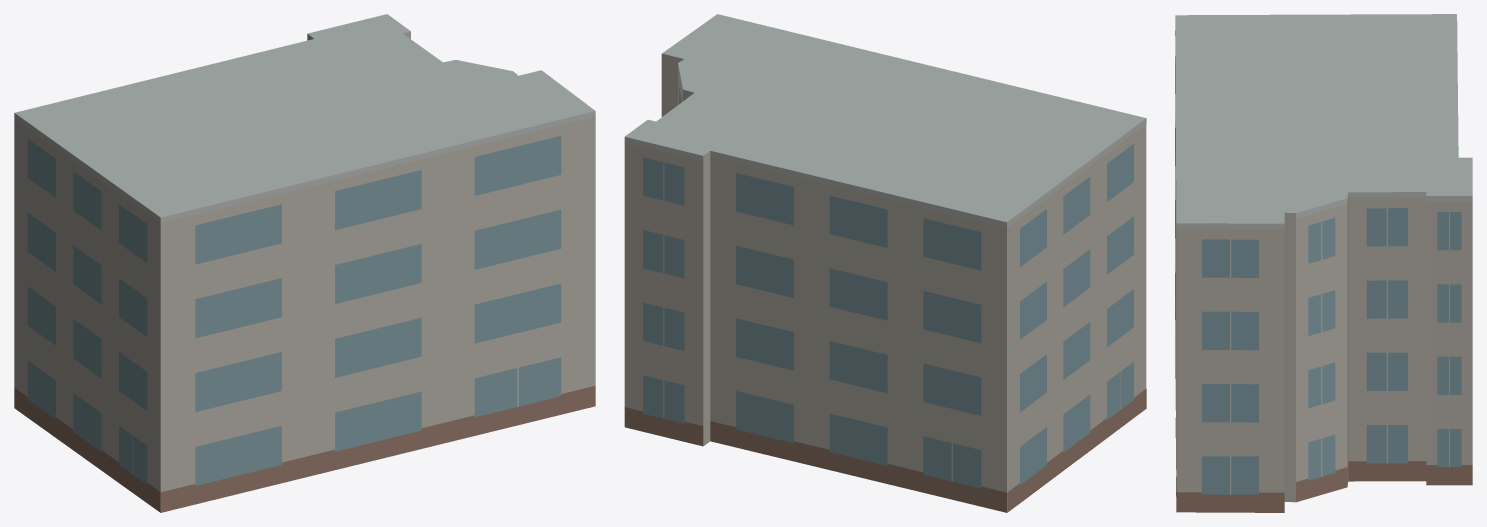
Rendered from survey-upis-32820426.glb.
3 views of the same model, side by side, from view 1: azimuth 30°, elevation 25°; view 2: azimuth 150°, elevation 25°; view 3: azimuth 270°, elevation 25° (orthographic). The views are drawn at different scales.
Parts seen in each view (by area): view 1: survey-upis-32820426.tmp; view 2: survey-upis-32820426.tmp; view 3: survey-upis-32820426.tmp.
Part boxes in pixels (x1=…): survey-upis-32820426.tmp: x1=14, y1=14, x2=595, y2=512; survey-upis-32820426.tmp: x1=624, y1=14, x2=1146, y2=512; survey-upis-32820426.tmp: x1=1175, y1=14, x2=1472, y2=512.
Bounding box in the file's own units: 19.46 × 12.5 × 11.67.
